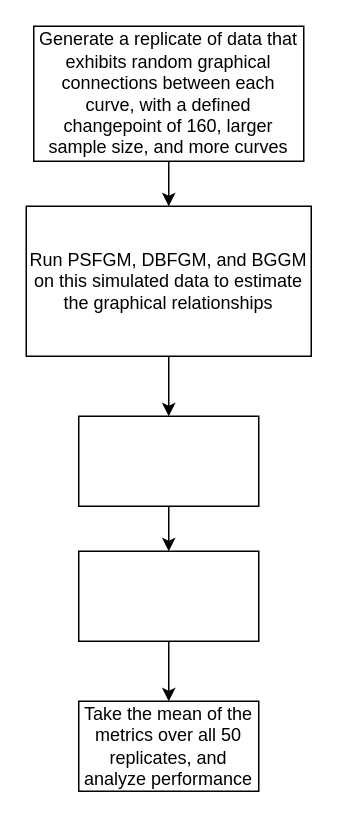
Image size: 338x818. Some labels were removed from this diagram. The centre of each missing label's shape, as x and y in pixels:
"Measure TPR, FPR, MCC, and store the results" goes at [168,460].
"Repeat steps 1-3 49 times for a total of 50 replicates" goes at [168,595].
